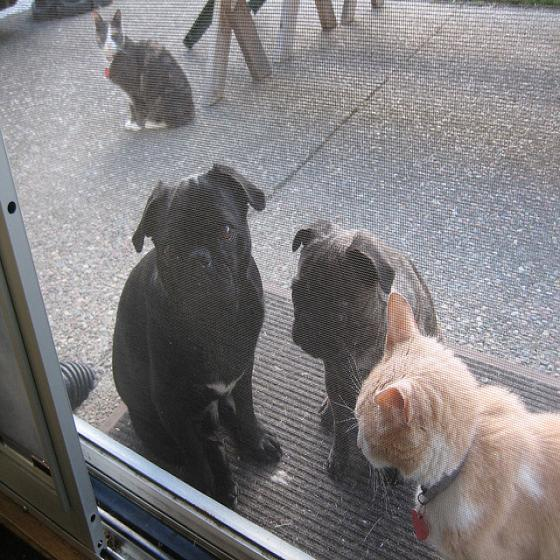cat: (328, 287, 560, 555), (94, 9, 195, 132)
dog: (111, 165, 286, 514), (292, 223, 437, 481)
